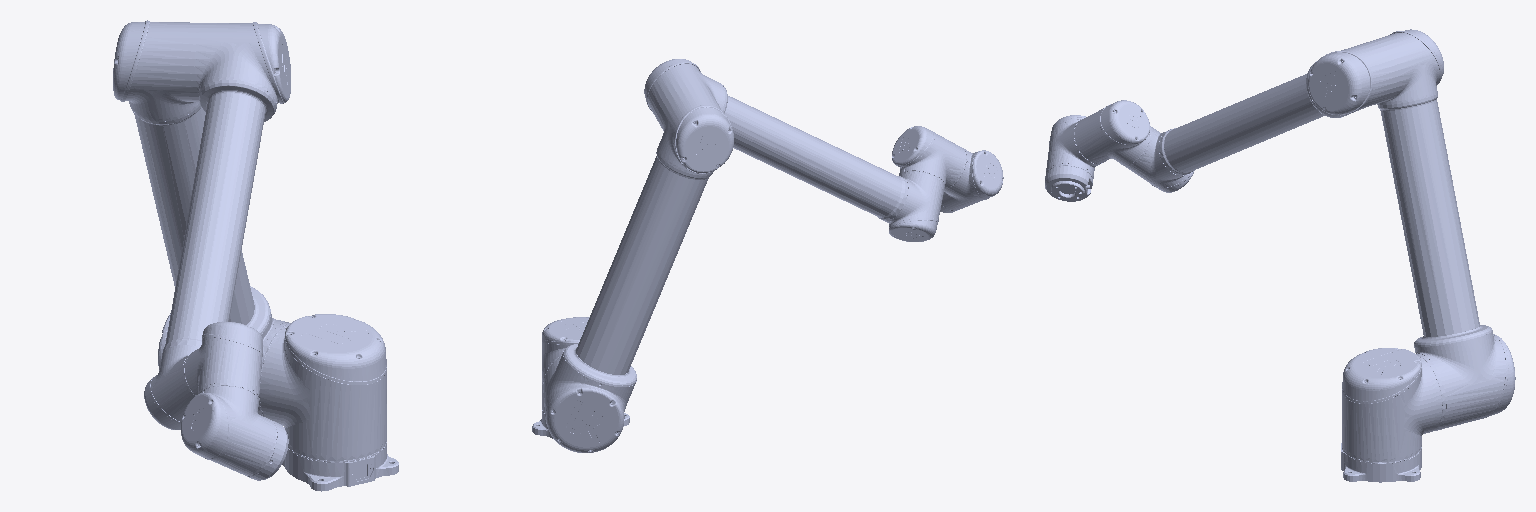
The robot description file, URDF, robot "UR10":
<?xml version="1.0" encoding="utf-8"?>
<!-- This URDF was automatically created by SolidWorks to URDF Exporter! Originally created by [author] ([email redacted]) 
     Commit Version: 1.6.0-1-g15f4949  Build Version: 1.6.7594.29634
     For more information, please see http://wiki.ros.org/sw_urdf_exporter -->
<robot
  name="UR10">
  <link
    name="base_link">
    <inertial>
      <origin
        xyz="0.00241444261100689 -0.104513192570385 0.136411402269452"
        rpy="0 0 0" />
      <mass
        value="0.706324320048481" />
      <inertia
        ixx="0.00115557612300412"
        ixy="4.80084221925232E-08"
        ixz="7.87552989824148E-08"
        iyy="0.00114584540440243"
        iyz="1.99544890443535E-07"
        izz="0.00212897019309279" />
    </inertial>
    <visual>
      <origin
        xyz="0 0 0"
        rpy="0 0 0" />
      <geometry>
        <mesh
          filename="package://UR10/meshes/base_link.STL" />
      </geometry>
      <material
        name="">
        <color
          rgba="0.792156862745098 0.819607843137255 0.933333333333333 1" />
      </material>
    </visual>
    <collision>
      <origin
        xyz="0 0 0"
        rpy="0 0 0" />
      <geometry>
        <mesh
          filename="package://UR10/meshes/base_link.STL" />
      </geometry>
    </collision>
  </link>
  <link
    name="Motor1_Link">
    <inertial>
      <origin
        xyz="4.79666530822653E-06 0.0784763967727724 -0.0116150359362407"
        rpy="0 0 0" />
      <mass
        value="3.07359044496664" />
      <inertia
        ixx="0.0114773924093733"
        ixy="-1.02040954324146E-06"
        ixz="-2.16288485082108E-08"
        iyy="0.0101200034164775"
        iyz="0.000858438406286923"
        izz="0.0107166707033301" />
    </inertial>
    <visual>
      <origin
        xyz="0 0 0"
        rpy="0 0 0" />
      <geometry>
        <mesh
          filename="package://UR10/meshes/Motor1_Link.STL" />
      </geometry>
      <material
        name="">
        <color
          rgba="0.792156862745098 0.819607843137255 0.933333333333333 1" />
      </material>
    </visual>
    <collision>
      <origin
        xyz="0 0 0"
        rpy="0 0 0" />
      <geometry>
        <mesh
          filename="package://UR10/meshes/Motor1_Link.STL" />
      </geometry>
    </collision>
  </link>
  <joint
    name="Motor1"
    type="fixed">
    <origin
      xyz="0.0024074515813577 -0.104353839104099 0.15597596146156"
      rpy="1.5707963267949 0 0.554555196404332" />
    <parent
      link="base_link" />
    <child
      link="Motor1_Link" />
    <axis
      xyz="0 0 0" />
  </joint>
  <link
    name="Motor2_Link">
    <inertial>
      <origin
        xyz="0.000418323017249971 0.251043395898089 -0.170393718097669"
        rpy="0 0 0" />
      <mass
        value="8.71253692122248" />
      <inertia
        ixx="0.096507003573906"
        ixy="-7.18504772418496E-05"
        ixz="-6.79437867689252E-05"
        iyy="0.0199173787035406"
        iyz="0.000598895585513671"
        izz="0.0949366385430019" />
    </inertial>
    <visual>
      <origin
        xyz="0 0 0"
        rpy="0 0 0" />
      <geometry>
        <mesh
          filename="package://UR10/meshes/Motor2_Link.STL" />
      </geometry>
      <material
        name="">
        <color
          rgba="0.792156862745098 0.819607843137255 0.933333333333333 1" />
      </material>
    </visual>
    <collision>
      <origin
        xyz="0 0 0"
        rpy="0 0 0" />
      <geometry>
        <mesh
          filename="package://UR10/meshes/Motor2_Link.STL" />
      </geometry>
    </collision>
  </link>
  <joint
    name="Motor2"
    type="revolute">
    <origin
      xyz="0 0.0899999999999895 0"
      rpy="0 0 0.361283874206159" />
    <parent
      link="Motor1_Link" />
    <child
      link="Motor2_Link" />
    <axis
      xyz="0 0 1" />
    <limit
      lower="0"
      upper="0"
      effort="0"
      velocity="0" />
  </joint>
  <link
    name="Motor3_Link">
    <inertial>
      <origin
        xyz="0.00104803517496654 0.256917626879726 -0.0424075176767121"
        rpy="0 0 0" />
      <mass
        value="4.65333364339624" />
      <inertia
        ixx="0.051603270446379"
        ixy="-6.15325428556164E-05"
        ixz="-0.000115174641200173"
        iyy="0.00595507572643275"
        iyz="-0.000287113903983639"
        izz="0.0515328135058399" />
    </inertial>
    <visual>
      <origin
        xyz="0 0 0"
        rpy="0 0 0" />
      <geometry>
        <mesh
          filename="package://UR10/meshes/Motor3_Link.STL" />
      </geometry>
      <material
        name="">
        <color
          rgba="0.792156862745098 0.819607843137255 0.933333333333333 1" />
      </material>
    </visual>
    <collision>
      <origin
        xyz="0 0 0"
        rpy="0 0 0" />
      <geometry>
        <mesh
          filename="package://UR10/meshes/Motor3_Link.STL" />
      </geometry>
    </collision>
  </link>
  <joint
    name="Motor3"
    type="revolute">
    <origin
      xyz="0.0452663477175206 0.612899999999999 -0.0125350560570252"
      rpy="0.263248927559656 -0.0613803461396275 1.79459410643369" />
    <parent
      link="Motor2_Link" />
    <child
      link="Motor3_Link" />
    <axis
      xyz="0 0 1" />
    <limit
      lower="0"
      upper="0"
      effort="0"
      velocity="0" />
  </joint>
  <link
    name="Motor4_Link">
    <inertial>
      <origin
        xyz="2.95018964024951E-06 0.0097377828239078 -0.0777556954864359"
        rpy="0 0 0" />
      <mass
        value="0.728389750887566" />
      <inertia
        ixx="0.00111499799956404"
        ixy="7.41678618950447E-08"
        ixz="-3.07882446677643E-08"
        iyy="0.000883637341482311"
        iyz="9.07905009451698E-05"
        izz="0.00103084580513643" />
    </inertial>
    <visual>
      <origin
        xyz="0 0 0"
        rpy="0 0 0" />
      <geometry>
        <mesh
          filename="package://UR10/meshes/Motor4_Link.STL" />
      </geometry>
      <material
        name="">
        <color
          rgba="0.792156862745098 0.819607843137255 0.933333333333333 1" />
      </material>
    </visual>
    <collision>
      <origin
        xyz="0 0 0"
        rpy="0 0 0" />
      <geometry>
        <mesh
          filename="package://UR10/meshes/Motor4_Link.STL" />
      </geometry>
    </collision>
  </link>
  <joint
    name="Motor4"
    type="revolute">
    <origin
      xyz="0.0208736752835977 0.571599999999994 -0.0197834917618624"
      rpy="3.05193994895733 -0.754326416553888 -3.01106860216041" />
    <parent
      link="Motor3_Link" />
    <child
      link="Motor4_Link" />
    <axis
      xyz="0 0 1" />
    <limit
      lower="0"
      upper="0"
      effort="0"
      velocity="0" />
  </joint>
  <link
    name="Motor5_Link">
    <inertial>
      <origin
        xyz="-1.8880640232366E-06 0.108100327703805 -0.00973789481530418"
        rpy="0 0 0" />
      <mass
        value="0.72839056225215" />
      <inertia
        ixx="0.00111498189444424"
        ixy="-2.13634400083999E-08"
        ixz="7.20850699760594E-08"
        iyy="0.00103084431269893"
        iyz="9.07943200409834E-05"
        izz="0.000883643645555481" />
    </inertial>
    <visual>
      <origin
        xyz="0 0 0"
        rpy="0 0 0" />
      <geometry>
        <mesh
          filename="package://UR10/meshes/Motor5_Link.STL" />
      </geometry>
      <material
        name="">
        <color
          rgba="0.792156862745098 0.819607843137255 0.933333333333333 1" />
      </material>
    </visual>
    <collision>
      <origin
        xyz="0 0 0"
        rpy="0 0 0" />
      <geometry>
        <mesh
          filename="package://UR10/meshes/Motor5_Link.STL" />
      </geometry>
    </collision>
  </link>
  <joint
    name="Motor5"
    type="revolute">
    <origin
      xyz="0 0 -0.085355906747056"
      rpy="3.14159265358978 -1.49222766002308 -3.14159265358977" />
    <parent
      link="Motor4_Link" />
    <child
      link="Motor5_Link" />
    <axis
      xyz="0 1 0" />
    <limit
      lower="0"
      upper="0"
      effort="0"
      velocity="0" />
  </joint>
  <link
    name="Motor6_Link">
    <inertial>
      <origin
        xyz="-2.47814010978509E-08 -0.000949415356837013 -0.0138092621214108"
        rpy="0 0 0" />
      <mass
        value="0.159236440194262" />
      <inertia
        ixx="8.19109792697765E-05"
        ixy="-3.93410643587122E-11"
        ixz="-3.74910905443776E-11"
        iyy="8.77581172044845E-05"
        iyz="-4.72711435719603E-07"
        izz="0.000149632249949121" />
    </inertial>
    <visual>
      <origin
        xyz="0 0 0"
        rpy="0 0 0" />
      <geometry>
        <mesh
          filename="package://UR10/meshes/Motor6_Link.STL" />
      </geometry>
      <material
        name="">
        <color
          rgba="0.792156862745098 0.819607843137255 0.933333333333333 1" />
      </material>
    </visual>
    <collision>
      <origin
        xyz="0 0 0"
        rpy="0 0 0" />
      <geometry>
        <mesh
          filename="package://UR10/meshes/Motor6_Link.STL" />
      </geometry>
    </collision>
  </link>
  <joint
    name="Motor6"
    type="revolute">
    <origin
      xyz="0 0.1157 -0.0609296609450846"
      rpy="0 0 -2.41208543198363" />
    <parent
      link="Motor5_Link" />
    <child
      link="Motor6_Link" />
    <axis
      xyz="0 0 1" />
    <limit
      lower="0"
      upper="0"
      effort="0"
      velocity="0" />
  </joint>
</robot>

--- Render facts (derived) ---
Views: 3 orthographic renders of the robot side by side, from view 1: azimuth 30°, elevation 25°; view 2: azimuth 150°, elevation 25°; view 3: azimuth 270°, elevation 25°.
Robot: UR10 — 7 links, 6 joints (5 revolute, 1 fixed); root link base_link; default pose: every joint at zero.
Visible links, largest first — view 1: Motor3_Link, Motor2_Link, Motor1_Link, Motor5_Link, Motor4_Link, base_link, Motor6_Link; view 2: Motor2_Link, Motor3_Link, Motor4_Link, Motor5_Link, Motor1_Link; view 3: Motor2_Link, Motor3_Link, Motor1_Link, Motor4_Link, base_link, Motor5_Link, Motor6_Link.
Boxes of the visible links, x1,y1,x2,y2 form: Motor3_Link: [144, 22, 290, 429]; Motor2_Link: [113, 20, 290, 416]; Motor1_Link: [260, 314, 386, 462]; Motor5_Link: [181, 386, 277, 476]; Motor4_Link: [185, 322, 262, 400]; base_link: [282, 445, 398, 491]; Motor6_Link: [247, 421, 288, 480]; Motor2_Link: [543, 86, 733, 452]; Motor3_Link: [644, 59, 944, 241]; Motor4_Link: [892, 126, 966, 189]; Motor5_Link: [942, 148, 1003, 210]; Motor1_Link: [542, 317, 589, 414]; Motor2_Link: [1370, 29, 1515, 430]; Motor3_Link: [1123, 42, 1397, 192]; Motor1_Link: [1342, 348, 1441, 463]; Motor4_Link: [1074, 100, 1150, 164]; base_link: [1341, 443, 1421, 482]; Motor5_Link: [1046, 115, 1101, 178]; Motor6_Link: [1045, 166, 1092, 201].
Bounding box of the posed robot: 0.6583 × 0.8826 × 0.7754 m (x, y, z).
Meshes: 7 distinct files referenced, 7 mesh visuals loaded (7 binary STL).